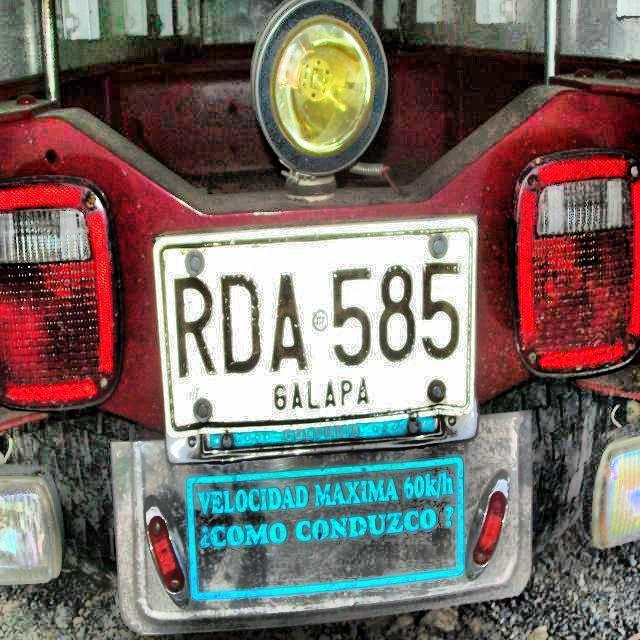plate: (154, 217, 478, 440)
